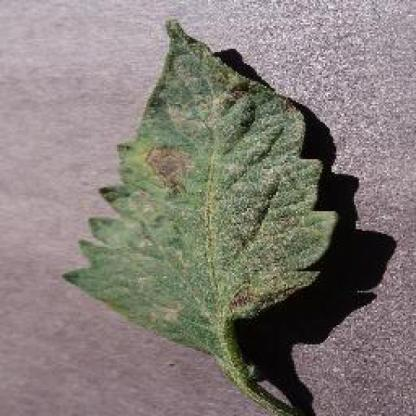Tomato_Blight: (65, 20, 336, 324)
